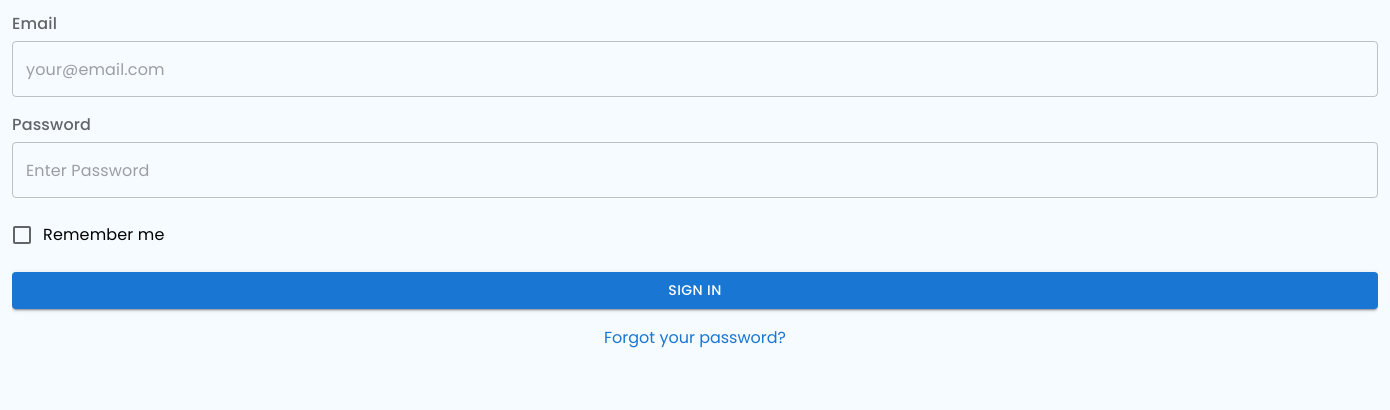
LoginForm › shows validation errors for short password
This screenshot has width=1390, height=410.
Type "12345" into the password field labelled "Password".
click(695, 170); type("12345")  # box [12,142,1378,198]
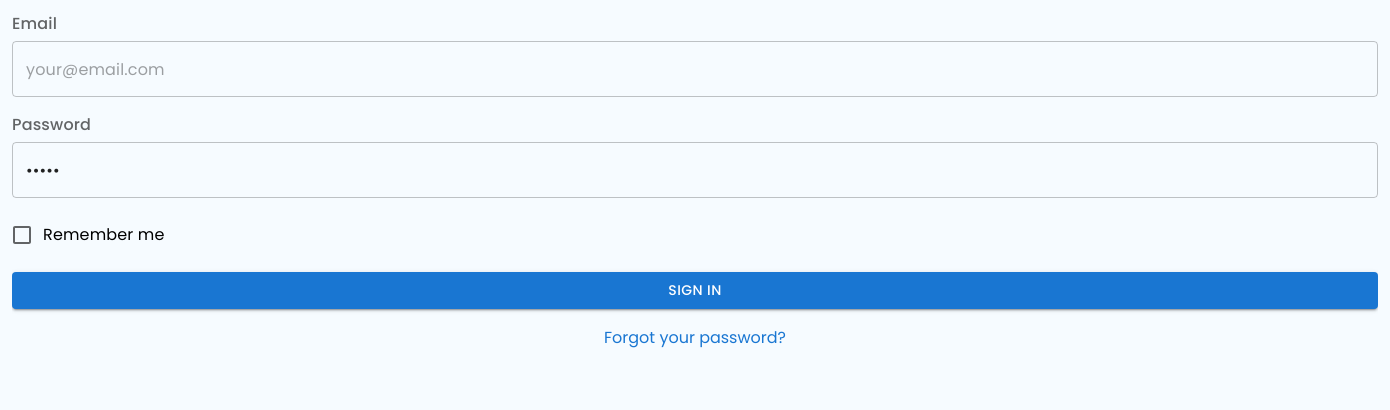
Click the button "Sign in".
click(695, 290)  # box [12,272,1378,308]
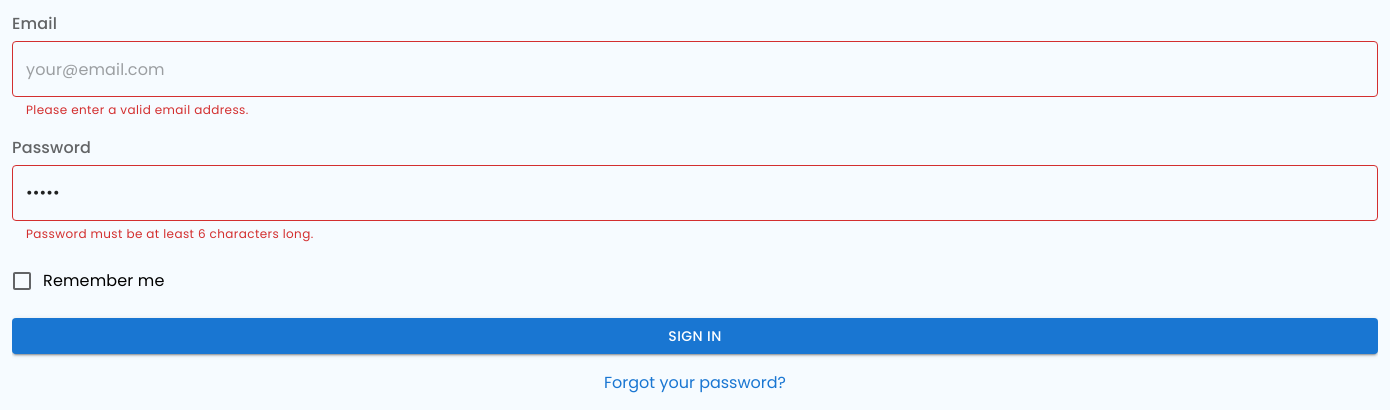
Check: the text "Password must be at least 6 characters long." is shown, box [26,225,314,242]
